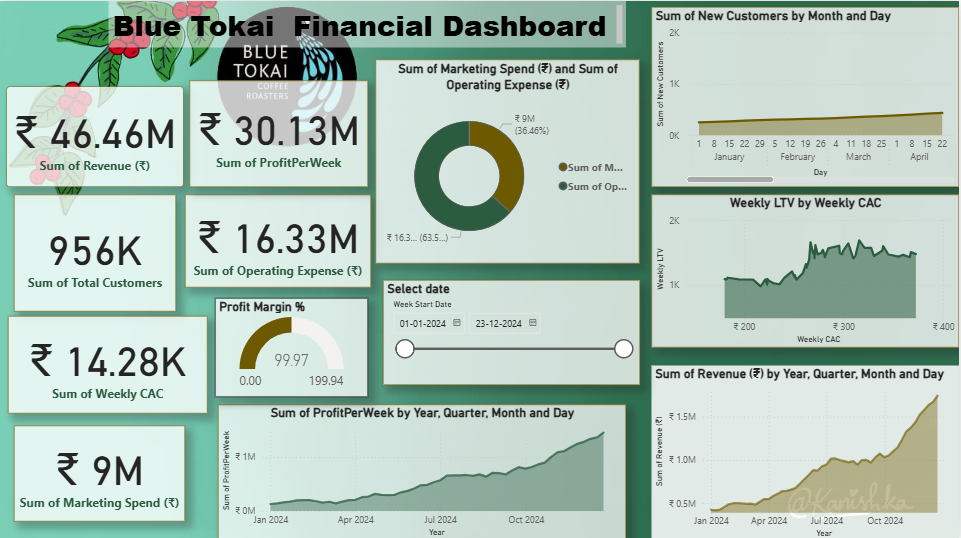

The dashboard page shown, as its layout file describes it:
{"tool":"powerbi","page":{"name":"Page 1","canvas":[1280,720],"ordinal":0},"visuals":[{"type":"card","fields":{"Values":["Sheet1.Revenue (₹)"]},"box":[10,114,236,134],"z":0},{"type":"card","fields":{"Values":["Sheet1.Total Customers"]},"box":[20,258,216,156],"z":1000},{"type":"card","fields":{"Values":["Sheet1.Weekly CAC"]},"box":[12,420,266,130],"z":2000},{"type":"card","fields":{"Values":["Sheet1.Marketing Spend (₹)"]},"box":[20,566,228,128],"z":3000},{"type":"card","fields":{"Values":["Sheet1.Operating Expense (₹)"]},"box":[248,258,248,124],"z":4000},{"type":"card","fields":{"Values":["Sheet1.ProfitPerWeek"]},"box":[254,106,238,142],"z":5000},{"type":"donutChart","fields":{"Y":["Sheet1.Marketing Spend (₹)","Sheet1.Operating Expense (₹)"]},"box":[502,78,352,272],"z":6000},{"type":"lineChart","fields":{"Category":["Sheet1.Week Start Date.Variation.Date Hierarchy.Year","Sheet1.Week Start Date.Variation.Date Hierarchy.Quarter","Sheet1.Week Start Date.Variation.Date Hierarchy.Month","Sheet1.Week Start Date.Variation.Date Hierarchy.Day"],"Y":["Sheet1.ProfitPerWeek"]},"box":[292,538,544,182],"z":7000},{"type":"lineChart","fields":{"Y":["Sheet1.Revenue (₹)"],"Category":["Sheet1.Week Start Date.Variation.Date Hierarchy.Year","Sheet1.Week Start Date.Variation.Date Hierarchy.Quarter","Sheet1.Week Start Date.Variation.Date Hierarchy.Month","Sheet1.Week Start Date.Variation.Date Hierarchy.Day"]},"box":[870,486,410,234],"z":8000},{"type":"slicer","title":"Select date","fields":{"Values":["Sheet1.Week Start Date"]},"box":[512.5,372.5,342.5,140],"z":9000},{"type":"lineChart","fields":{"Y":["Sheet1.New Customers"],"Category":["Sheet1.Week Start Date.Variation.Date Hierarchy.Month","Sheet1.Week Start Date.Variation.Date Hierarchy.Day"]},"box":[870,8,410,240],"z":10000},{"type":"lineChart","fields":{"Category":["Sheet1.Weekly CAC"],"Y":["Sheet1.Weekly LTV"]},"box":[870,258,410,204],"z":11000},{"type":"gauge","fields":{"Y":["Sheet1.Profit Margin %"]},"box":[288,396,204,132],"z":12000},{"type":"textbox","box":[146,0,690,62],"z":13000}]}

Visuals, with their boxes in screenshot pixels (x1, y1, x2, y2), scaled from the page's 1280x720 canvas onto the 961x538 screenshot:
card - Sheet1.Revenue (₹): left=8, top=85, right=185, bottom=185
card - Sheet1.Total Customers: left=15, top=193, right=177, bottom=309
card - Sheet1.Weekly CAC: left=9, top=314, right=209, bottom=411
card - Sheet1.Marketing Spend (₹): left=15, top=423, right=186, bottom=519
card - Sheet1.Operating Expense (₹): left=186, top=193, right=372, bottom=285
card - Sheet1.ProfitPerWeek: left=191, top=79, right=369, bottom=185
donutChart - Sheet1.Marketing Spend (₹) x Sheet1.Operating Expense (₹): left=377, top=58, right=641, bottom=262
lineChart - Sheet1.Week Start Date.Variation.Date Hierarchy.Year x Sheet1.Week Start Date.Variation.Date Hierarchy.Quarter: left=219, top=402, right=628, bottom=537
lineChart - Sheet1.Revenue (₹) x Sheet1.Week Start Date.Variation.Date Hierarchy.Year: left=653, top=363, right=960, bottom=537
"Select date" slicer: left=385, top=278, right=642, bottom=383
lineChart - Sheet1.New Customers x Sheet1.Week Start Date.Variation.Date Hierarchy.Month: left=653, top=6, right=960, bottom=185
lineChart - Sheet1.Weekly CAC x Sheet1.Weekly LTV: left=653, top=193, right=960, bottom=345
gauge - Sheet1.Profit Margin %: left=216, top=296, right=369, bottom=395
textbox: left=110, top=0, right=628, bottom=46
